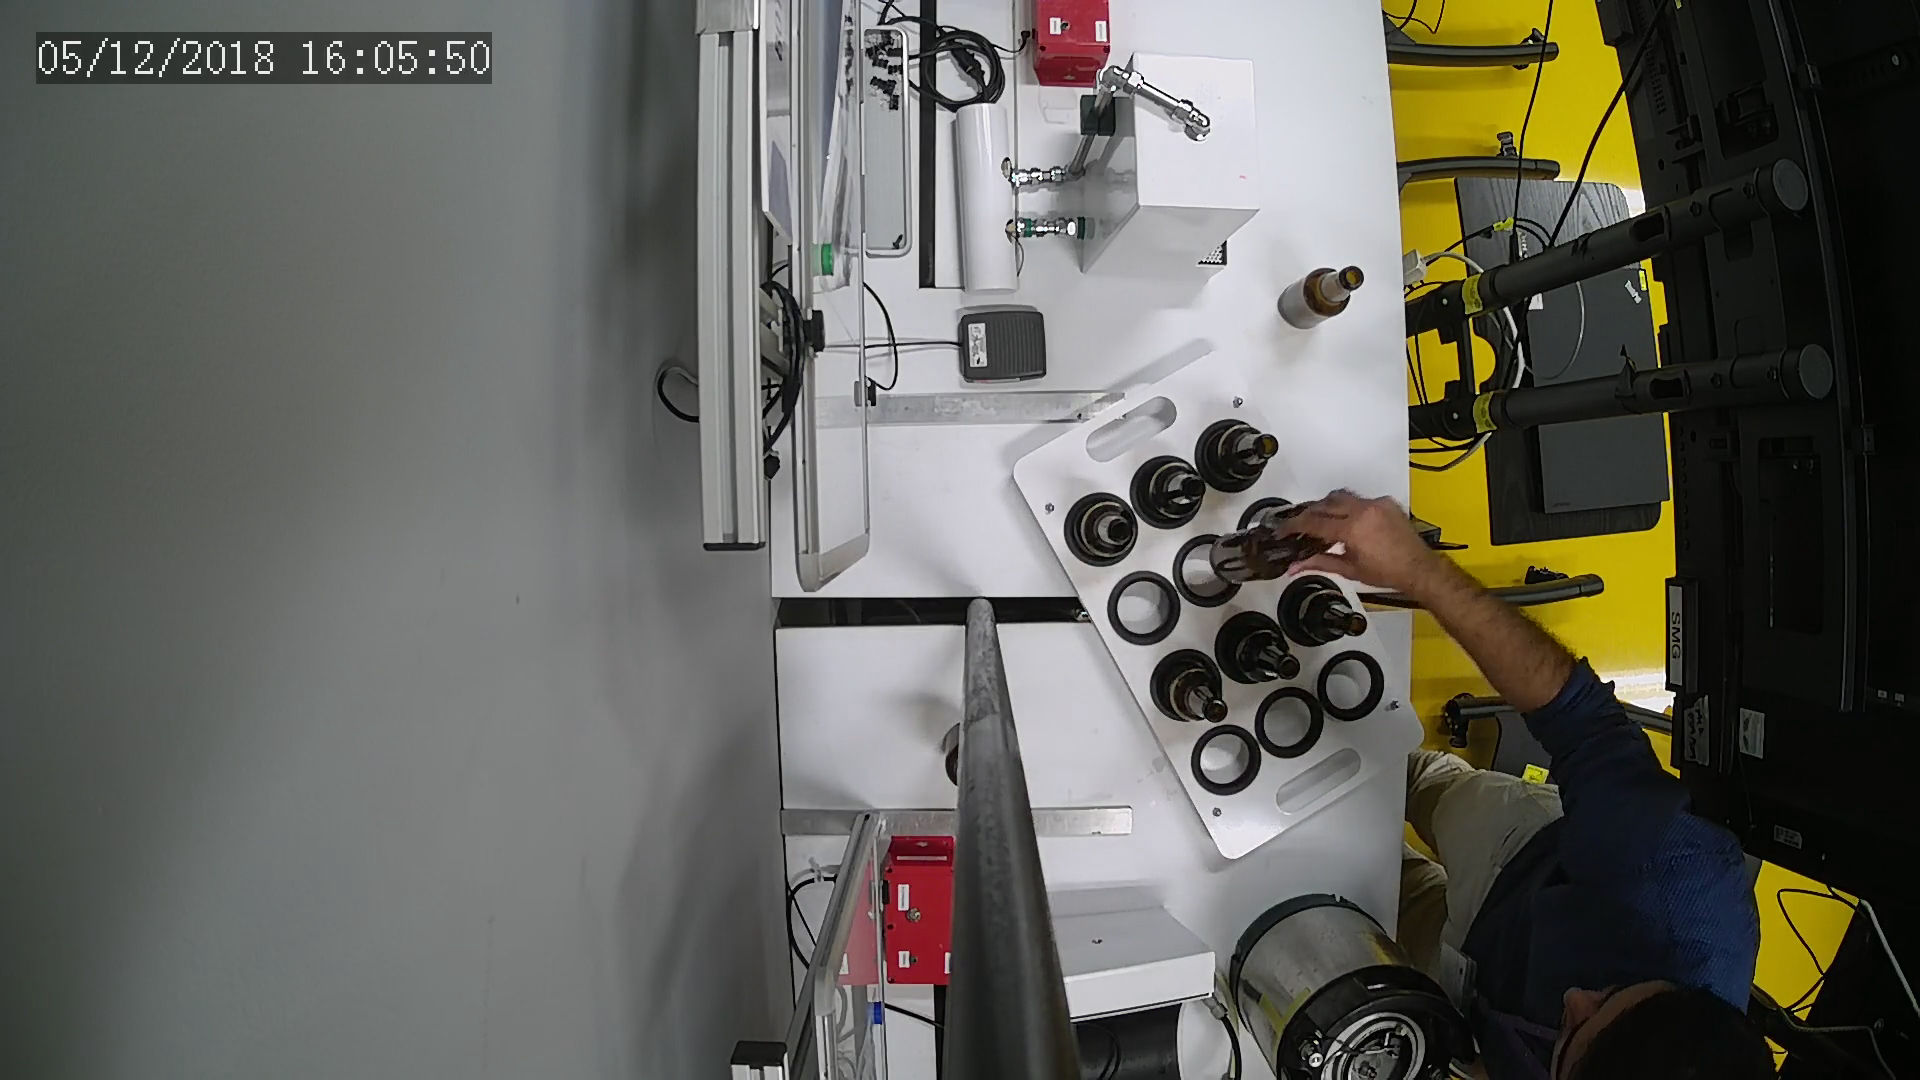filled_bottle: (1278, 580, 1370, 653), (1218, 611, 1304, 688), (1197, 413, 1274, 497), (1149, 649, 1229, 727), (1064, 491, 1141, 568), (1133, 454, 1208, 531)
trolley: (1011, 345, 1429, 861)
unfilled_bottle: (1279, 265, 1366, 332)
